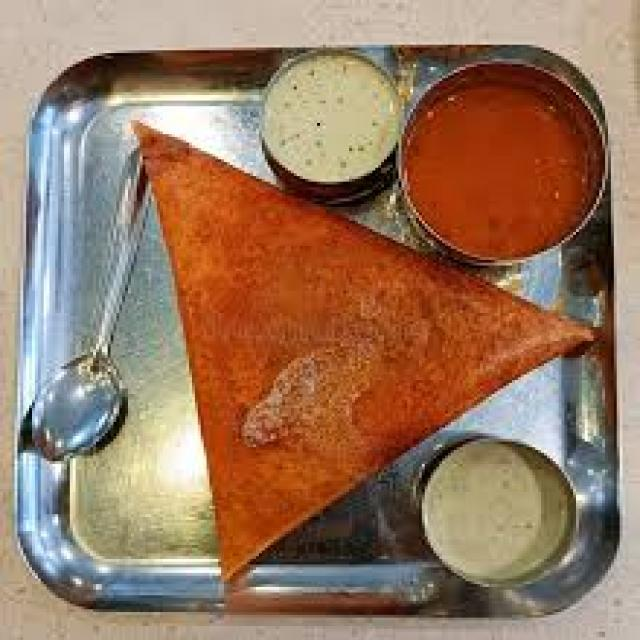DOSA: (132, 119, 589, 578)
